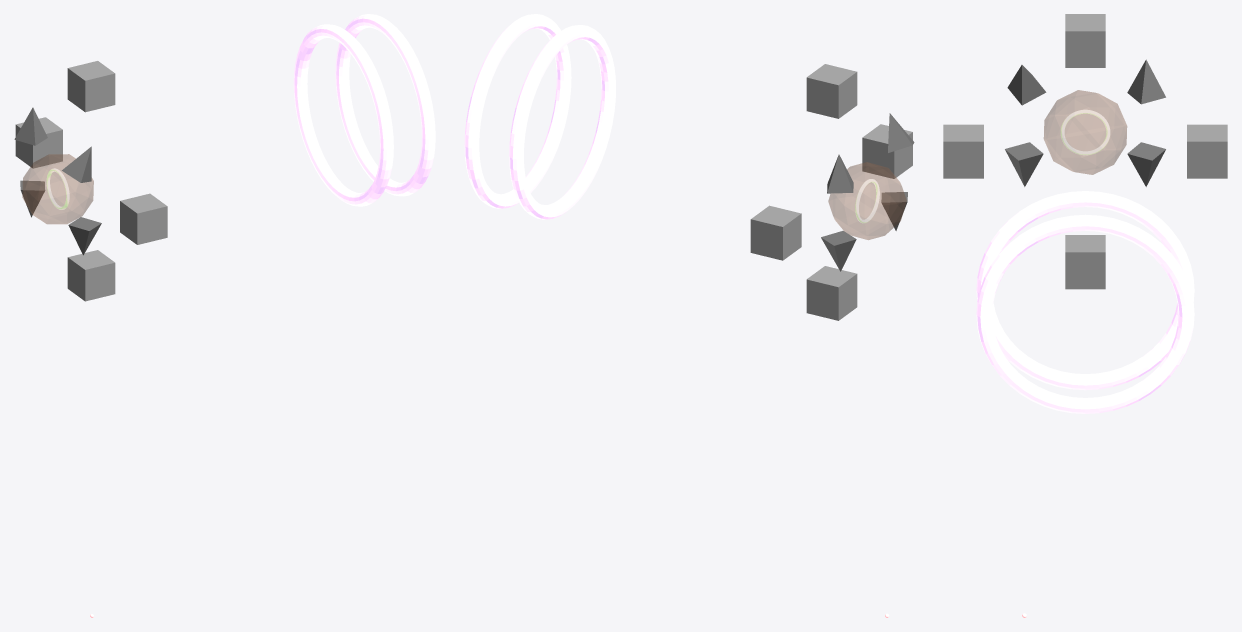
File: animation.glb
3 renders of one model, left to right at view 1: azimuth 30°, elevation 25°; view 2: azimuth 150°, elevation 25°; view 3: azimuth 270°, elevation 25°, orthographic. The views are drawn at different scales.
Parts seen in each view (by area): view 1: Torus, Torus.002, Icosphere, Cube.002, Cube, Cube.003, Cube.004, Cone.003, Cone, Cone.001, Cone.002; view 2: Torus, Torus.002, Icosphere, Cube.004, Cube, Cube.002, Cube.003, Cone.002, Cone, Cone.003; view 3: Torus.002, Torus, Icosphere, Cube, Cube.003, Cube.004, Cube.002, Cone.002, Cone.003, Cone, Cone.001, Torus.001.
Part boxes in pixels (left/top/right/bottom): Torus: left=293, top=24, right=393, bottom=206; Torus.002: left=335, top=14, right=435, bottom=196; Icosphere: left=22, top=154, right=93, bottom=223; Cube.002: left=67, top=61, right=115, bottom=112; Cube: left=67, top=250, right=115, bottom=301; Cube.003: left=120, top=193, right=167, bottom=244; Cube.004: left=15, top=117, right=62, bottom=168; Cone.003: left=68, top=217, right=101, bottom=255; Cone: left=14, top=107, right=47, bottom=145; Cone.001: left=62, top=146, right=91, bottom=182; Cone.002: left=20, top=180, right=45, bottom=217; Torus: left=509, top=25, right=615, bottom=219; Torus.002: left=464, top=14, right=571, bottom=208; Icosphere: left=828, top=162, right=906, bottom=239; Cube.004: left=750, top=205, right=801, bottom=260; Cube: left=806, top=266, right=857, bottom=320; Cube.002: left=806, top=64, right=857, bottom=118; Cube.003: left=862, top=124, right=912, bottom=178; Cone.002: left=821, top=231, right=856, bottom=271; Cone: left=827, top=154, right=853, bottom=193; Cone.003: left=881, top=192, right=907, bottom=230; Torus.002: left=976, top=214, right=1194, bottom=413; Torus: left=976, top=191, right=1194, bottom=390; Icosphere: left=1044, top=90, right=1126, bottom=174; Cube: left=1065, top=235, right=1105, bottom=289; Cube.003: left=943, top=124, right=983, bottom=178; Cube.004: left=1187, top=124, right=1227, bottom=178; Cube.002: left=1065, top=14, right=1105, bottom=67; Cone.002: left=1127, top=142, right=1165, bottom=186; Cone.003: left=1005, top=142, right=1043, bottom=186; Cone: left=1127, top=59, right=1165, bottom=104; Cone.001: left=1007, top=65, right=1046, bottom=105; Torus.001: left=1060, top=109, right=1110, bottom=155.
Size of the model in its own units: 24.21 by 33.09 by 14.
